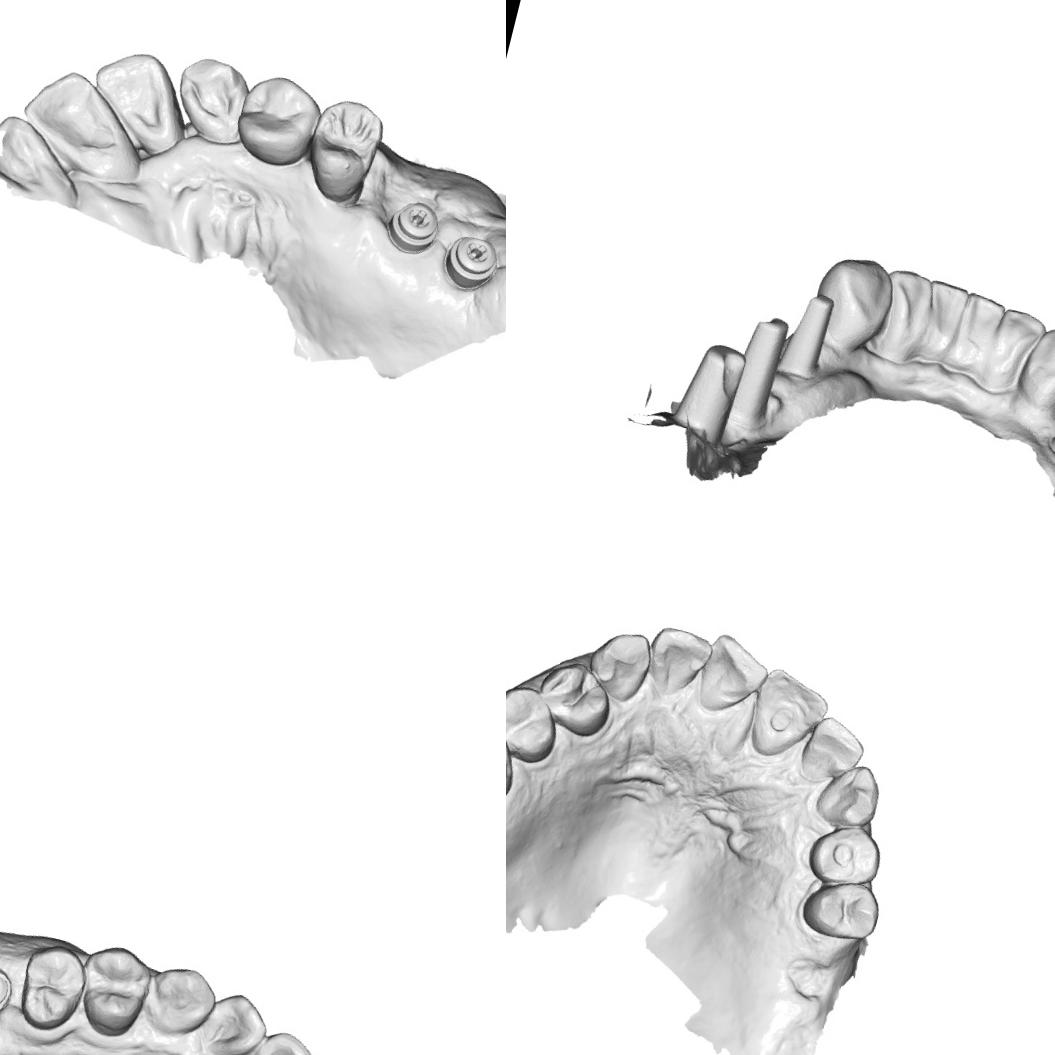abutment: (670, 334, 754, 454), (720, 305, 796, 436), (770, 287, 850, 382), (1040, 373, 1055, 478)
canine: (807, 247, 900, 354), (164, 50, 256, 148), (808, 754, 889, 835), (580, 622, 657, 707), (141, 960, 220, 1042), (1009, 311, 1055, 430)
implant: (0, 959, 17, 1019)
implant_plus: (438, 226, 506, 294), (381, 196, 444, 258)
incisor: (12, 60, 140, 179), (80, 38, 192, 154), (741, 662, 836, 768), (0, 106, 89, 209), (692, 630, 776, 726), (638, 622, 717, 704), (793, 710, 871, 793), (987, 298, 1047, 394), (195, 984, 274, 1055), (917, 270, 983, 351), (874, 259, 932, 348), (955, 284, 1009, 362), (232, 1021, 333, 1055)
premolar: (299, 92, 390, 207), (227, 67, 326, 172), (68, 938, 156, 1044), (529, 652, 620, 743), (9, 938, 90, 1037), (796, 868, 887, 948), (800, 815, 888, 894), (506, 677, 566, 767)
